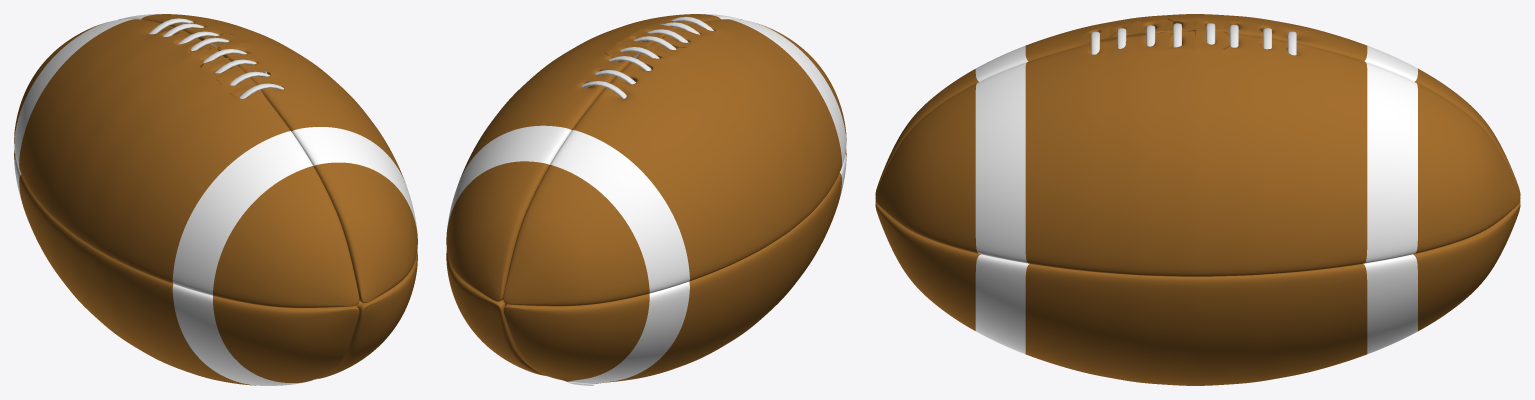
Rendered from AmericanFootball.fbx.
3 views of the same model, side by side, from view 1: azimuth 30°, elevation 25°; view 2: azimuth 150°, elevation 25°; view 3: azimuth 270°, elevation 25° (orthographic). The views are drawn at different scales.
Parts seen in each view (by area): view 1: Sphere; view 2: Sphere; view 3: Sphere.
Boxes of the visible parts, x1,y1,x2,y2 form: Sphere: (14, 14, 417, 385); Sphere: (446, 14, 846, 385); Sphere: (875, 14, 1520, 385).
Bounding box in the file's own units: 205 × 208 × 357.
